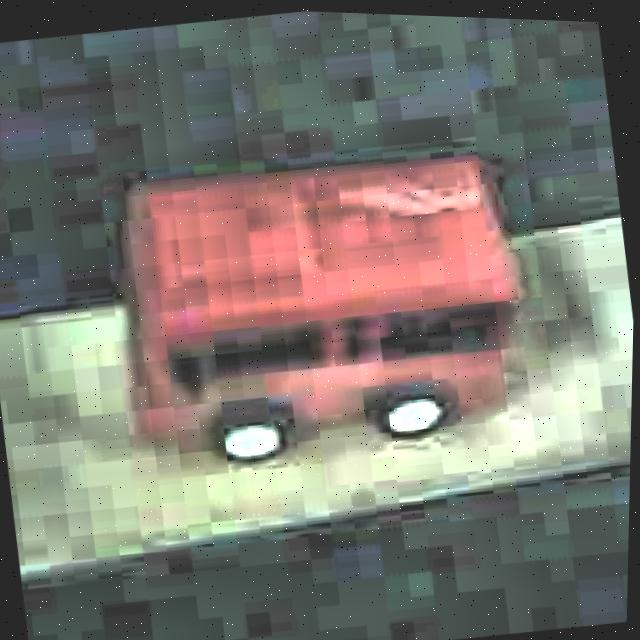bus: (99, 127, 547, 492)
